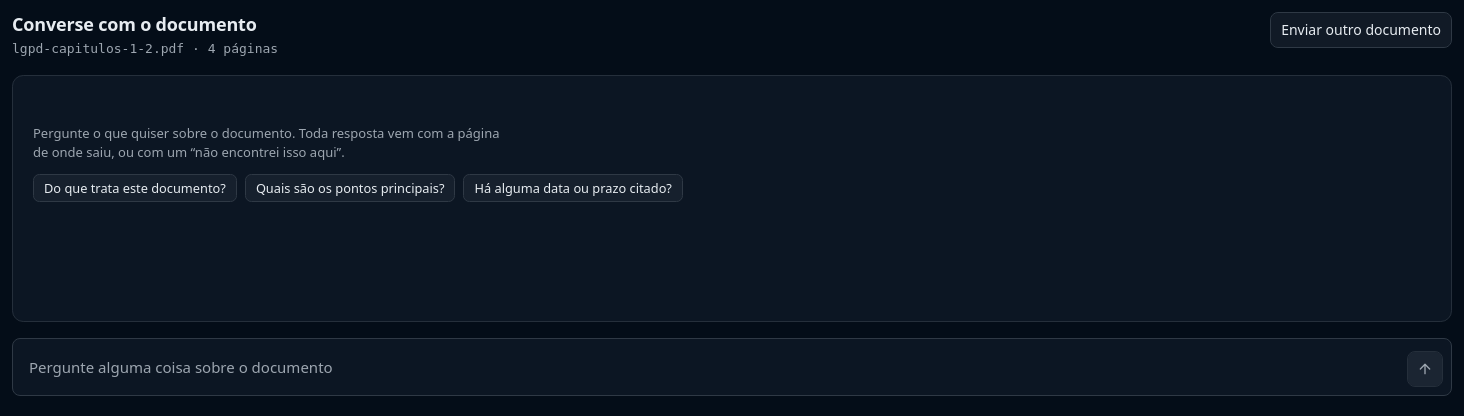
Test: ChatView › trata erro antes do primeiro evento como aviso, sem resposta pela metade
Click the text box named "Sua pergunta sobre o documento" at {"x": 710, "y": 367}, box [21, 347, 1399, 387]
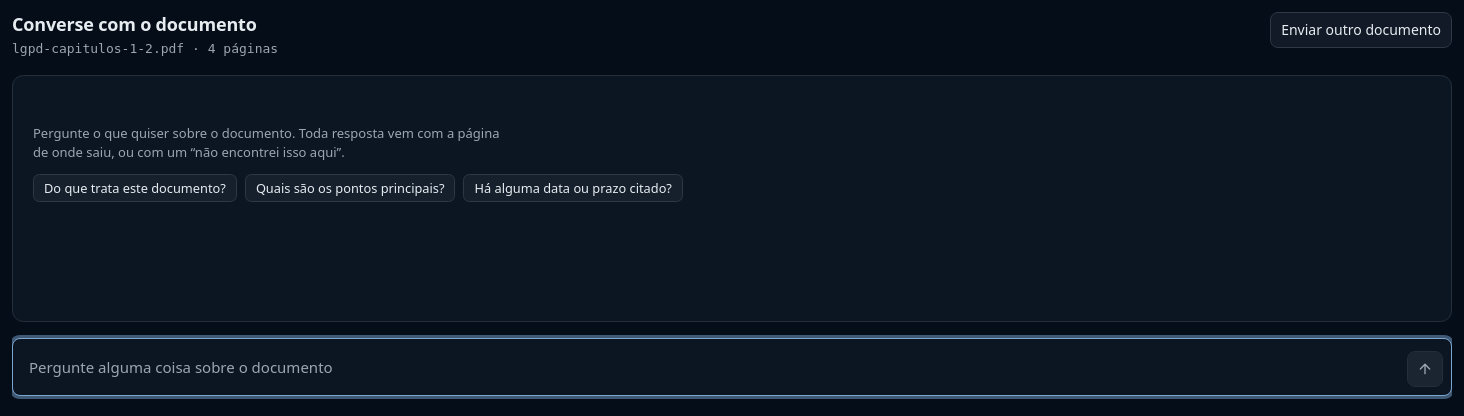
Type keys "qual o endereço?{Enter}"
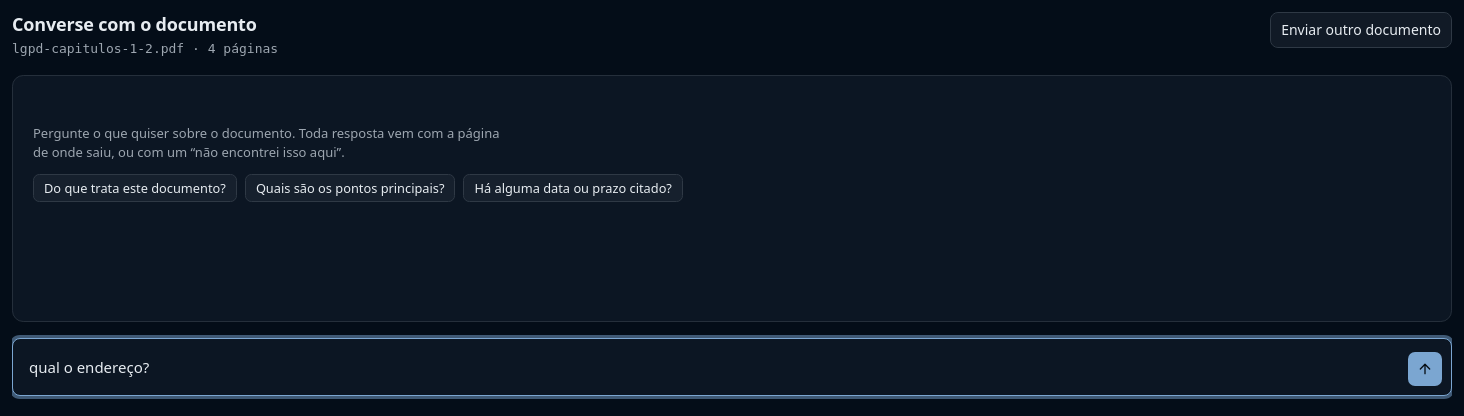
Expected: the text box named "Sua pergunta sobre o documento" is enabled, [21, 347, 1399, 387]
Expected: the text box named "Sua pergunta sobre o documento" holds "qual o endereço?", [21, 347, 1399, 387]
